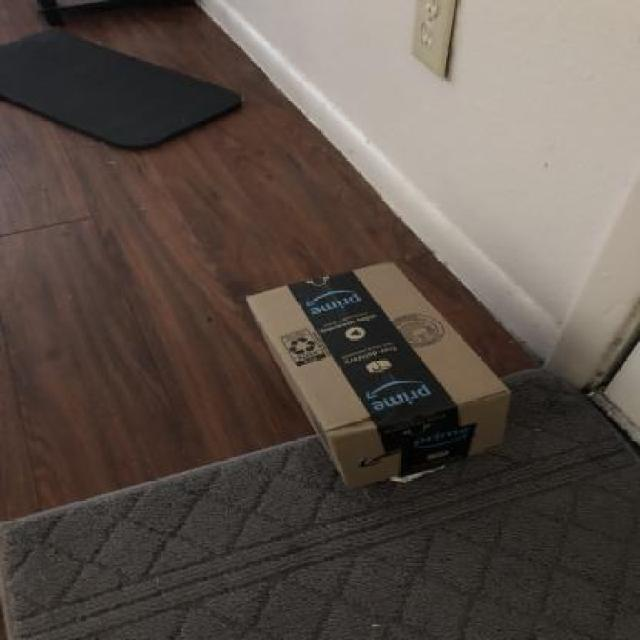cardboxes: (235, 255, 520, 496)
